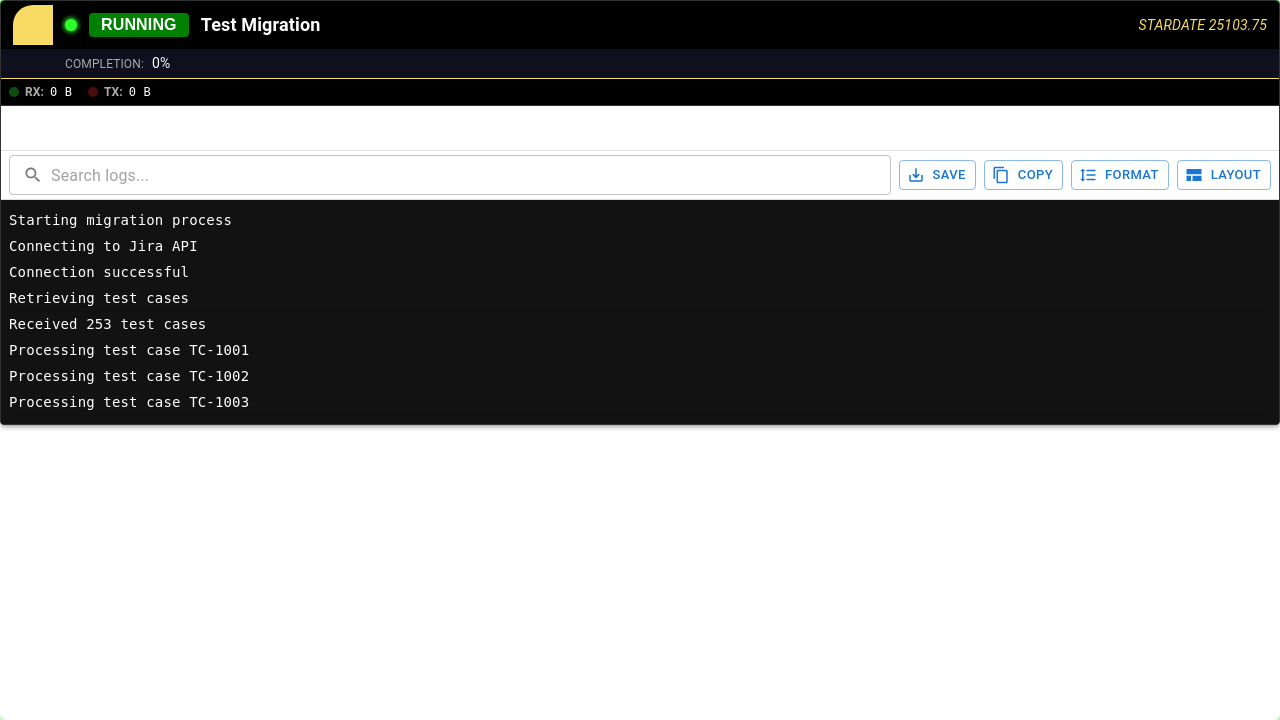
Scenario: StatusWindow › allows searching log content
The image size is (1280, 720).
// Type in search field
In the field with placeholder "Search logs...": (471, 175) [51,155,891,195], type "test case"
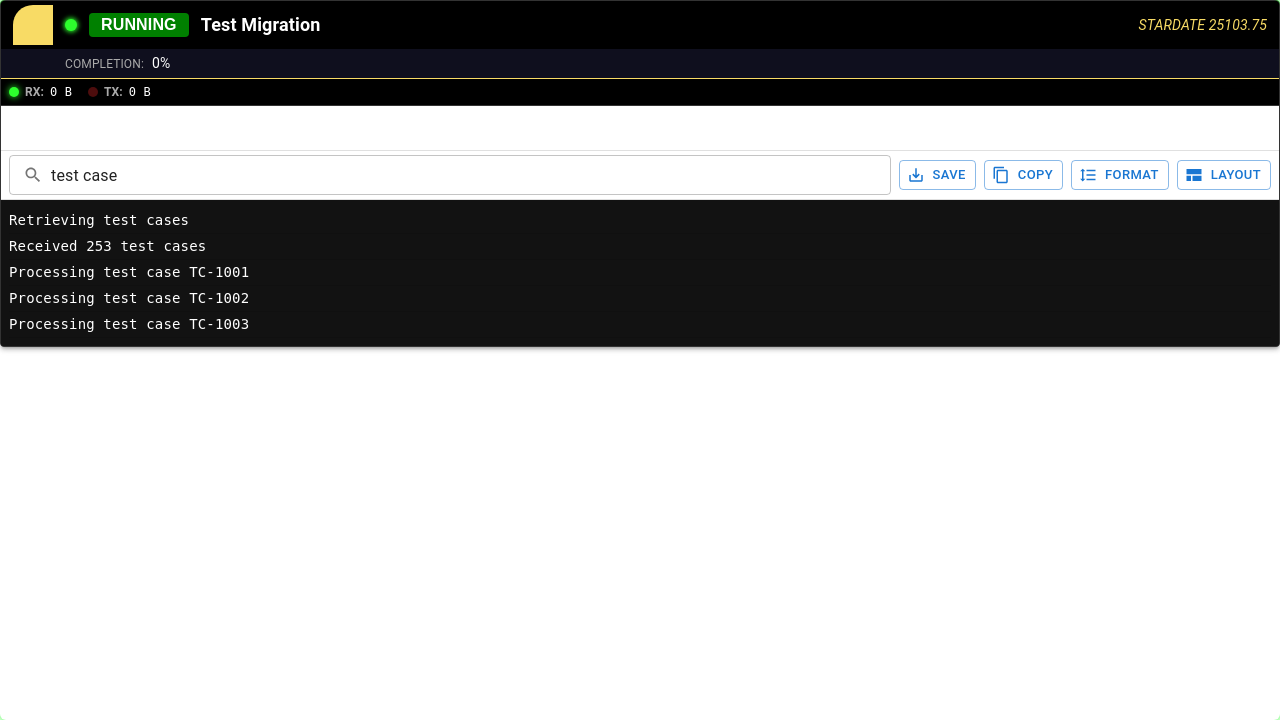
expect the text "Starting migration process" is gone: met
expect the text "Processing test case TC-1001" is shown: met, box [9,260,1271,286]
expect the text "Processing test case TC-1002" is shown: met, box [9,286,1271,312]
